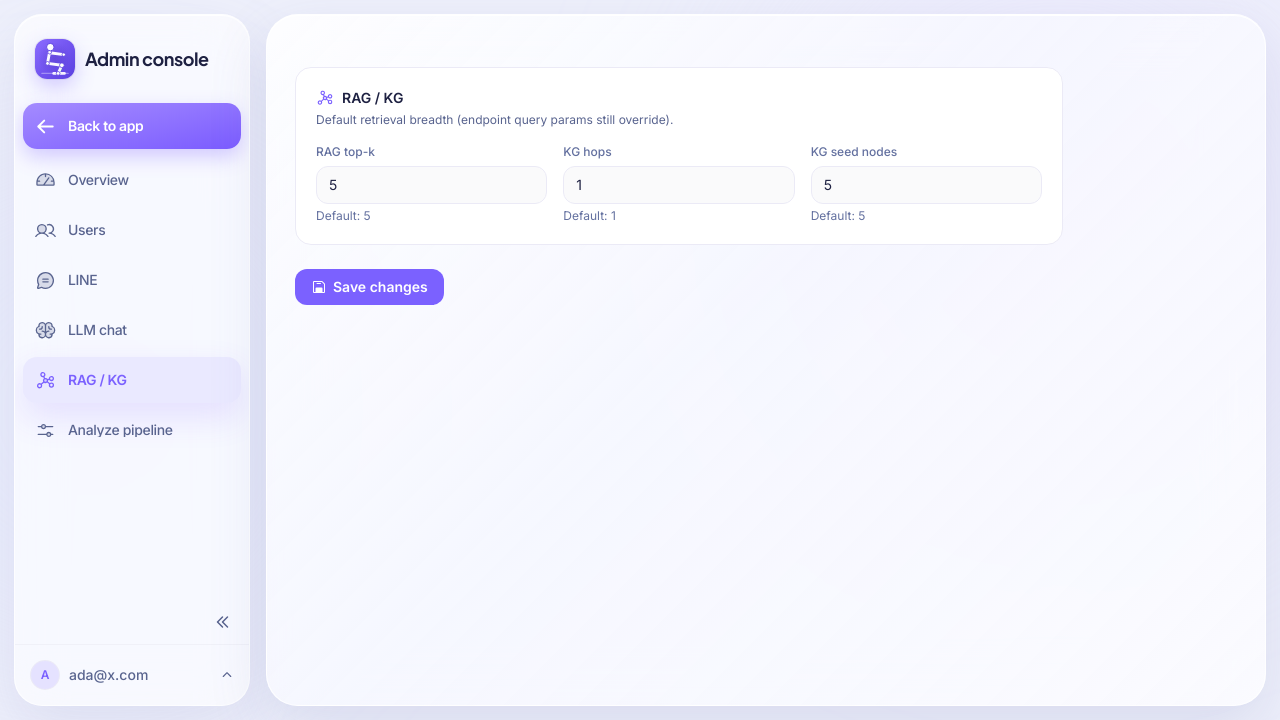
Test: Admin settings pages › saves only the RAG group's keys from the RAG settings page
Replace the text in the field labelled "RAG top-k" with "9" at (432, 185), box [316,166,547,204]
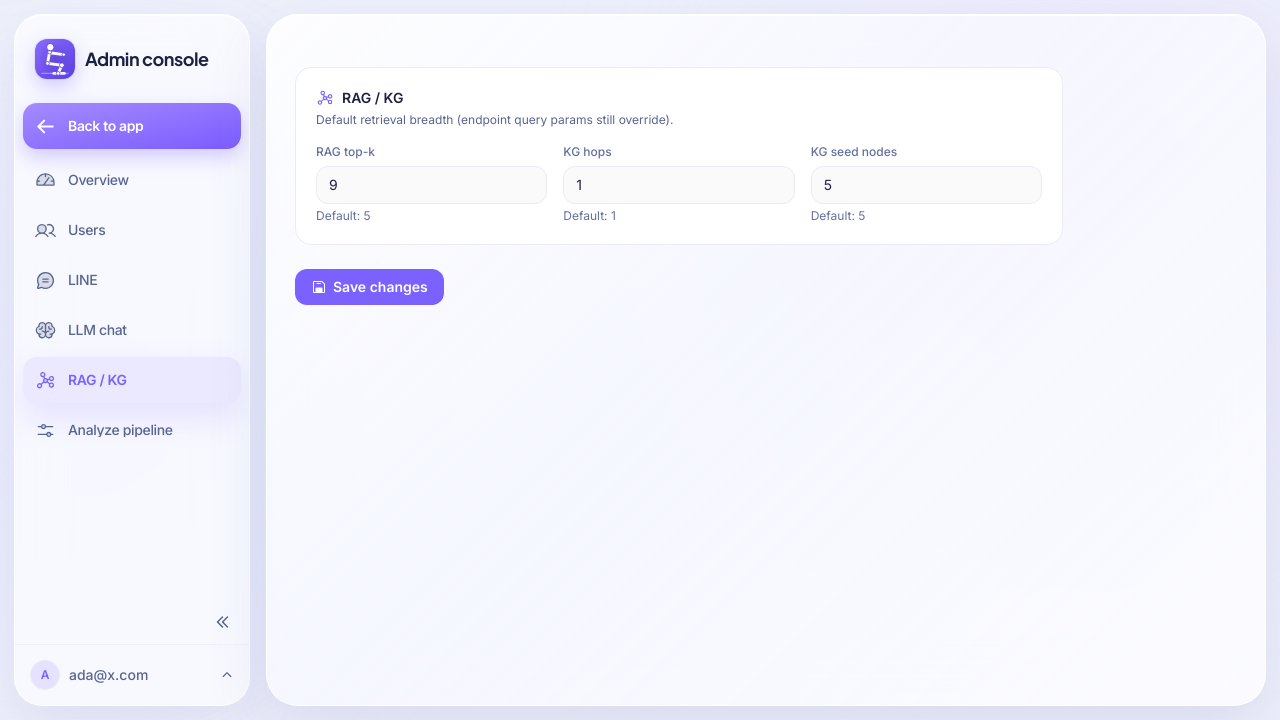
Click the button "Save changes" at (369, 287), box [295,269,444,305]
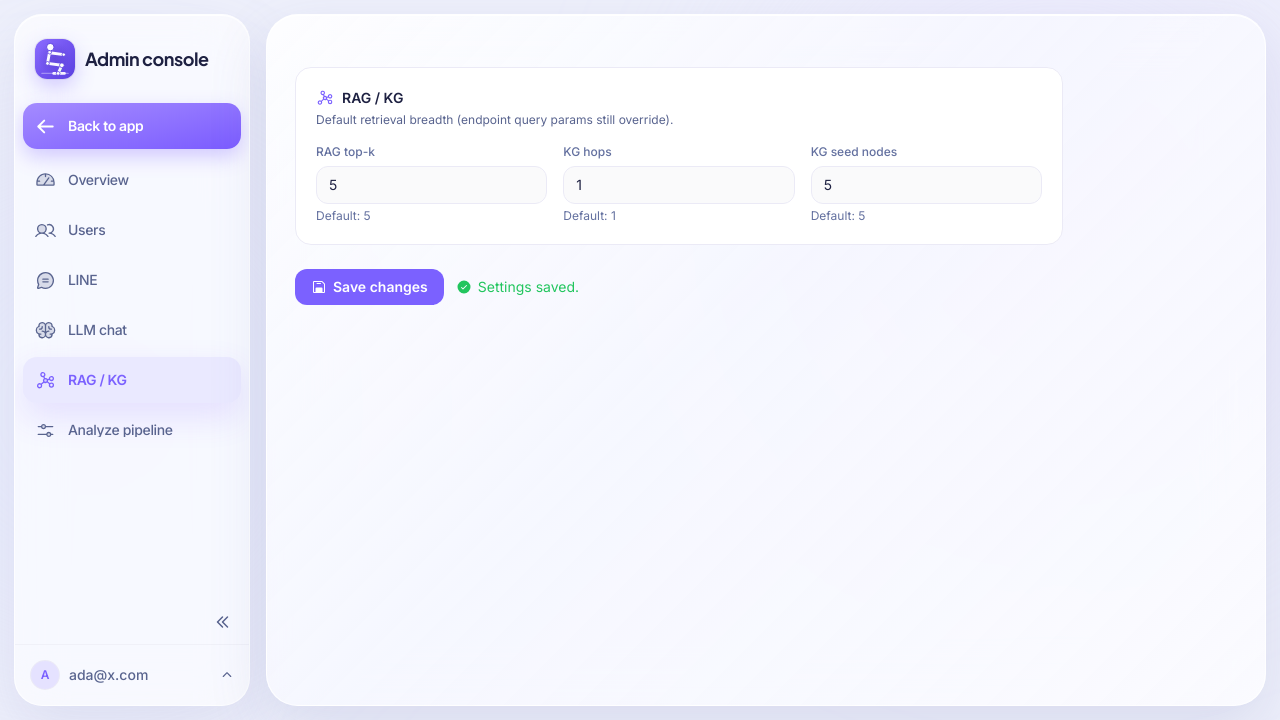
Expected: the text "Settings saved." is shown, [456,277,579,297]
